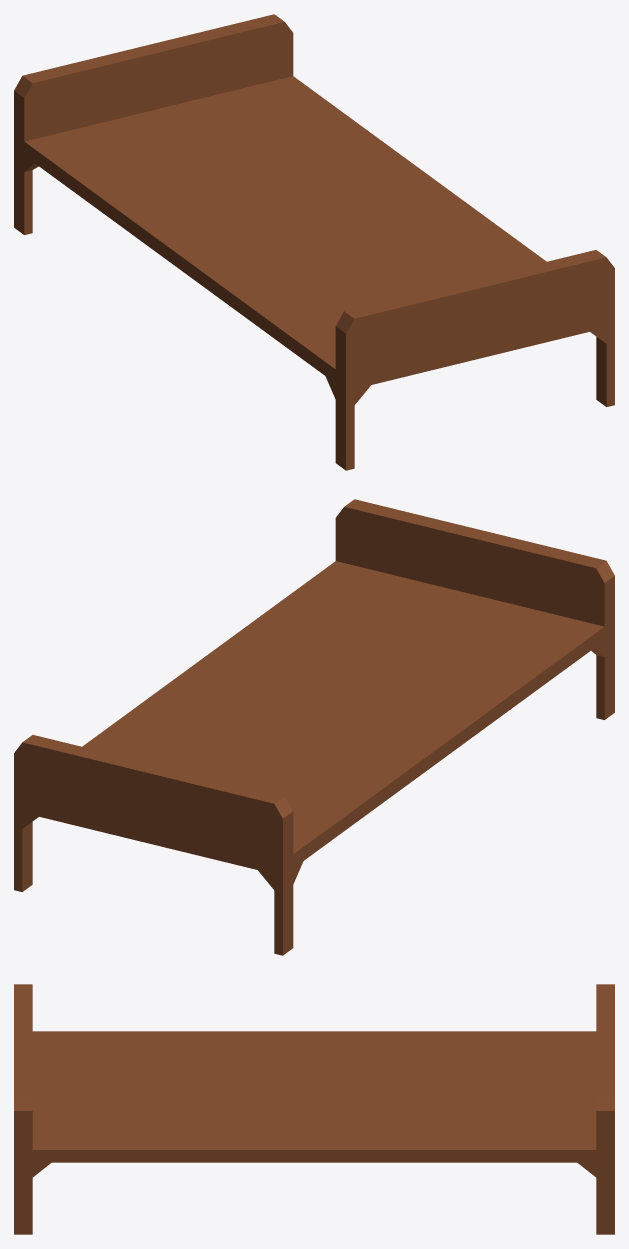
File: bed01.obj
3 renders of one model, top to bottom at view 1: azimuth 30°, elevation 25°; view 2: azimuth 150°, elevation 25°; view 3: azimuth 270°, elevation 25°, orthographic. The views are drawn at different scales.
Parts seen in each view (by area): view 1: Cube_Cube.001; view 2: Cube_Cube.001; view 3: Cube_Cube.001.
Part boxes in pixels (<box>): Cube_Cube.001: <box>14,14,614,470</box>; Cube_Cube.001: <box>14,499,614,955</box>; Cube_Cube.001: <box>14,984,614,1234</box>.
Bounding box in the file's own units: 1 × 0.5327 × 2.14.
